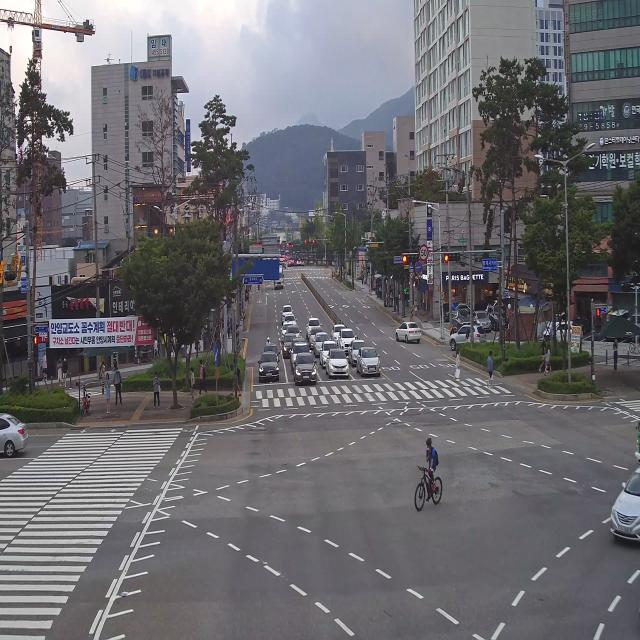Car: (601, 450, 640, 546), (0, 399, 37, 466), (319, 344, 353, 382), (356, 338, 382, 383), (446, 318, 486, 347), (291, 351, 319, 392), (254, 345, 281, 386), (392, 320, 427, 346), (540, 320, 576, 342), (486, 300, 508, 332), (290, 340, 314, 366), (348, 336, 369, 363), (338, 324, 358, 349), (262, 340, 281, 365), (305, 317, 324, 340), (452, 310, 471, 333), (314, 330, 332, 354), (320, 340, 337, 364), (471, 310, 490, 331), (280, 303, 296, 324), (331, 322, 345, 346), (289, 337, 307, 354), (453, 301, 474, 315), (287, 321, 304, 338), (309, 325, 322, 345), (283, 311, 299, 325), (282, 333, 293, 353), (281, 321, 291, 339)
Motorcycle: (264, 334, 271, 346)
Truck: (273, 256, 285, 293)
